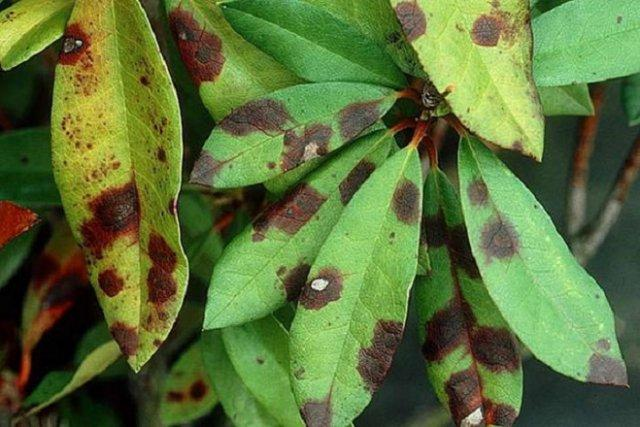late_blight: (232, 153, 380, 312), (219, 94, 336, 173), (423, 279, 519, 370), (421, 169, 479, 278), (81, 178, 141, 258), (170, 7, 230, 81), (357, 319, 403, 392), (143, 230, 177, 328), (438, 367, 488, 424), (478, 214, 521, 259), (191, 149, 238, 186), (338, 101, 381, 141), (59, 24, 93, 67), (301, 387, 337, 426), (469, 10, 506, 46), (394, 1, 427, 41), (391, 178, 419, 224), (587, 353, 625, 383), (482, 397, 515, 426), (110, 321, 139, 354), (97, 264, 124, 297), (462, 175, 489, 207), (597, 338, 609, 351)
